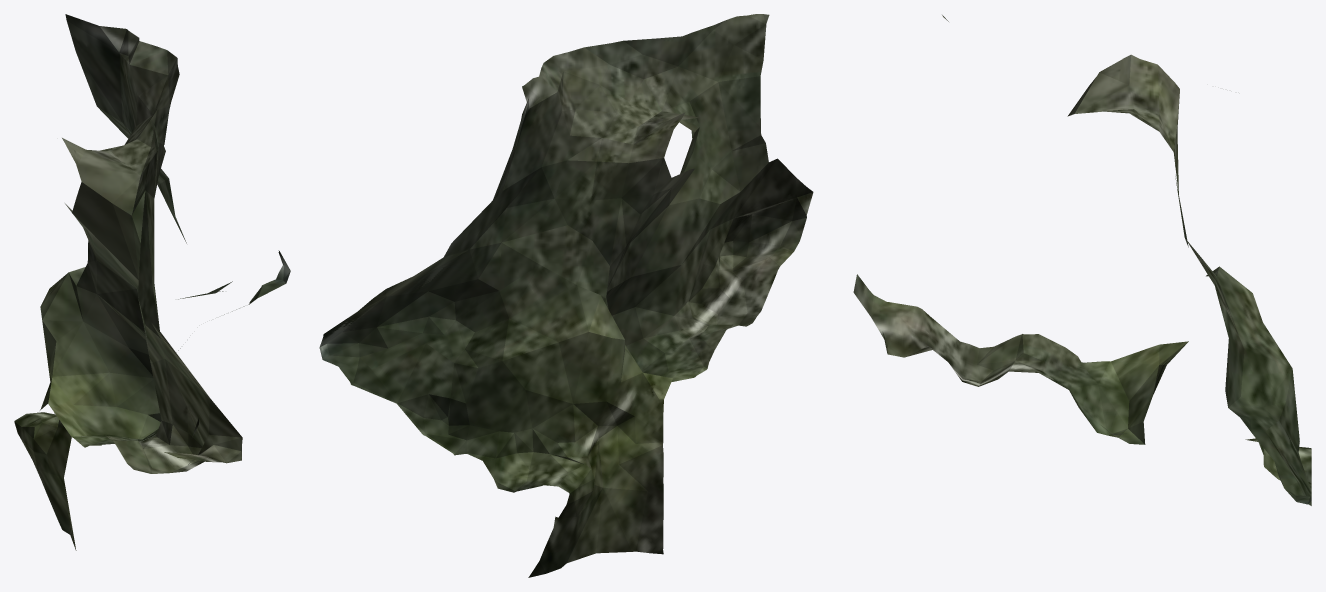
The picture shows the model from 3 angles, left to right: view 1: azimuth 30°, elevation 25°; view 2: azimuth 150°, elevation 25°; view 3: azimuth 270°, elevation 25°; orthographic projection. The views are drawn at different scales.
Bounding box in the file's own units: 1.93 × 2.95 × 2.41.
Materials: 3 (3 with a texture image).
